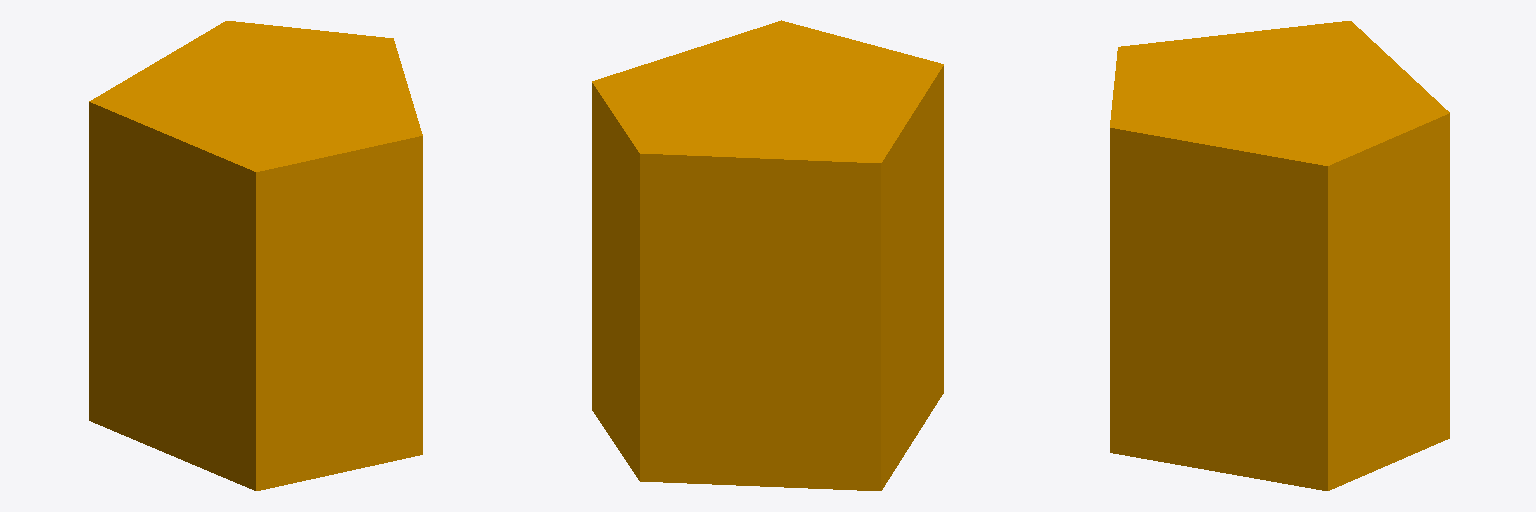
URDF robot description (object):
<?xml version="1.0"?>
<robot name="object">
  <link name="object">
    <visual>
      <origin xyz="0 0 0"/>
      <geometry>
        <mesh filename="meshes/generated/col_091.obj" scale="0.03 0.03 0.03"/>
      </geometry>
    </visual>
    <collision>
      <origin xyz="0 0 0"/>
      <geometry>
        <mesh filename="meshes/generated/col_091.obj" scale="0.03 0.03 0.03"/>
      </geometry>
    </collision>
    <inertial>
      <density value="1000.0"/>
    </inertial>
  </link>
</robot>

--- Facts derived from the render (not from the file) ---
3 views of the same robot in one strip: view 1: azimuth 30°, elevation 25°; view 2: azimuth 150°, elevation 25°; view 3: azimuth 270°, elevation 25° (orthographic).
Model object with 1 links and 0 joints (none), rooted at object, posed every joint at zero.
Visible links, largest first — view 1: object; view 2: object; view 3: object.
Boxes of the visible links, <box> form: object: <box>89,21,422,490</box>; object: <box>592,20,943,490</box>; object: <box>1110,21,1449,490</box>.
Bounding box of the posed robot: 0.0577 × 0.057 × 0.06 m (x, y, z).
1 mesh visuals loaded from 1 distinct referenced files (1 OBJ).
